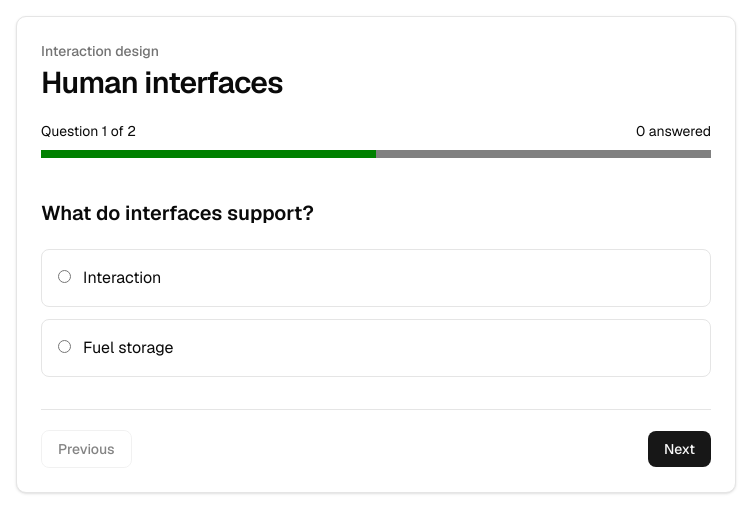
it: QuizPlayer › changes a selection and preserves it across Previous and Next navigation
The image size is (753, 511).
Step 1. Click the radio button labelled "Interaction" → point(64, 276), box [58,270,71,283]
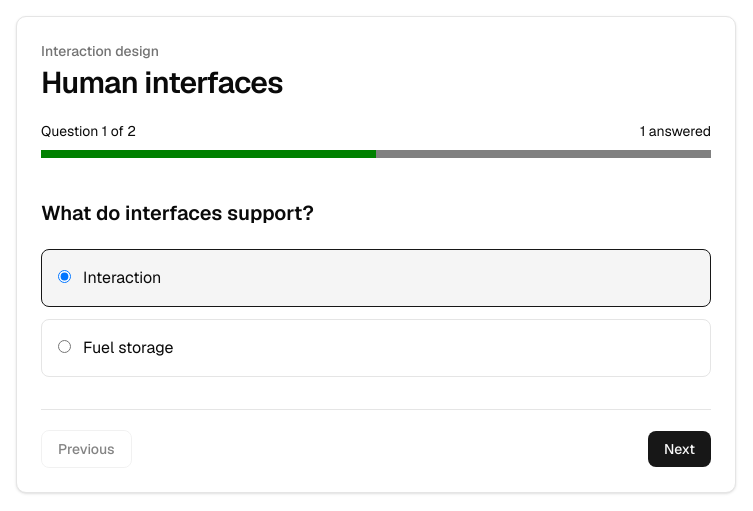
Step 2. Click the radio button labelled "Fuel storage" → point(64, 346), box [58,340,71,353]
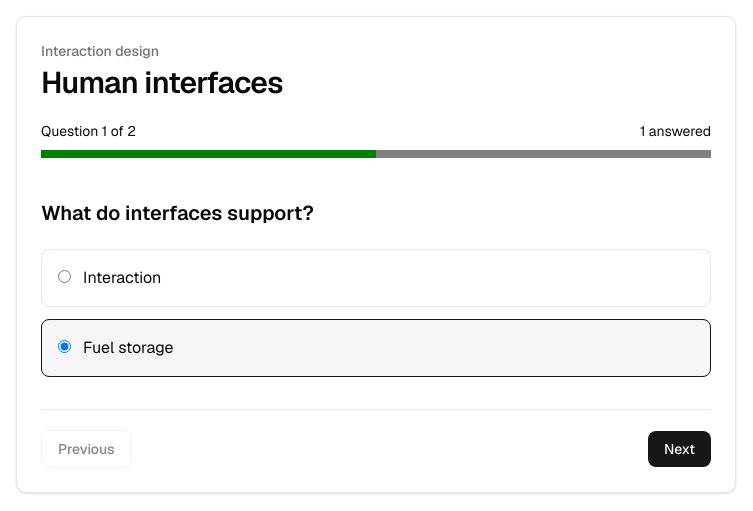
Expected: the radio button labelled "Interaction" is not checked, [58,270,71,283]
Expected: the radio button labelled "Fuel storage" is checked, [58,340,71,353]
Step 3. Click the button "Next" → point(679, 449), box [648,431,711,467]
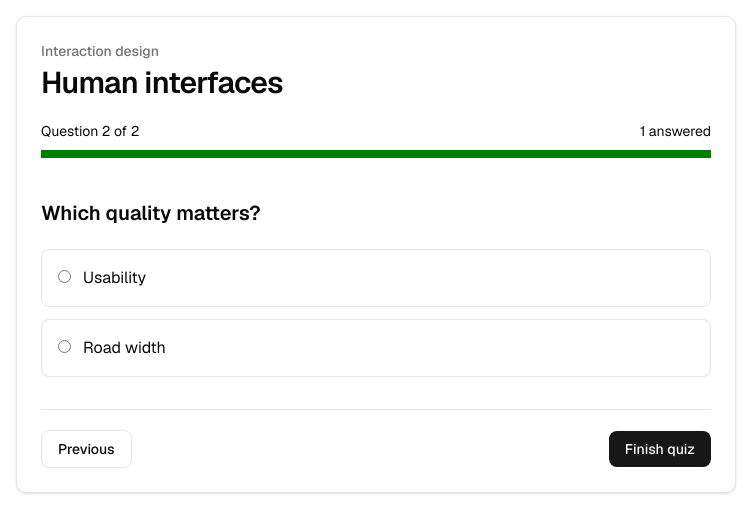
Expected: the progress indicator named "Quiz progress" holds "2", [41,150,711,158]
Expected: the text "Question 2 of 2" is shown, [41,121,139,141]
Step 4. Click the radio button labelled "Usability" → point(64, 276), box [58,270,71,283]
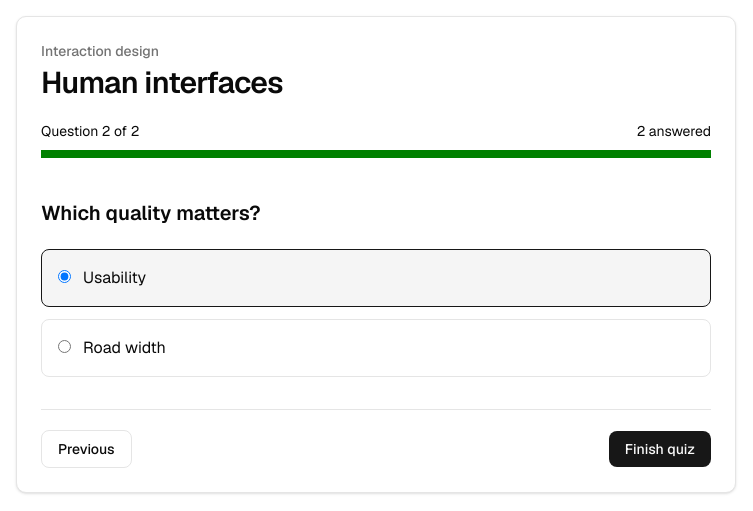
Step 5. Click the button "Previous" → point(86, 449), box [41,430,132,468]
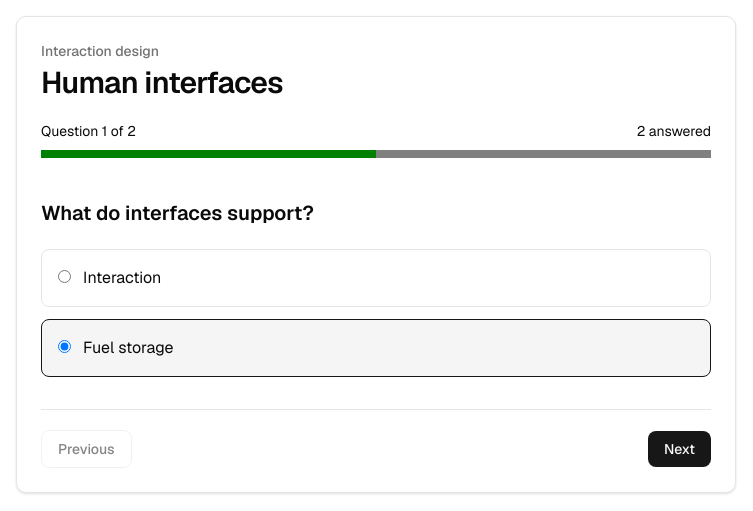
Expected: the radio button labelled "Fuel storage" is checked, [58,340,71,353]
Step 6. Click the button "Next" → point(679, 449), box [648,431,711,467]
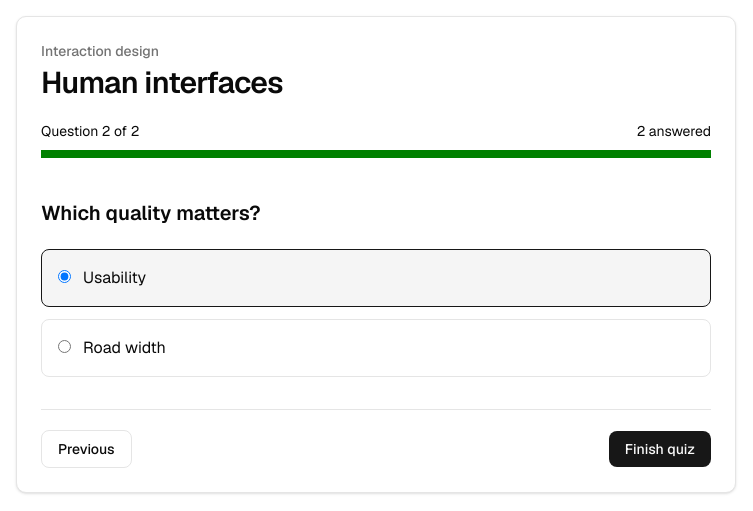
Expected: the radio button labelled "Usability" is checked, [58,270,71,283]
